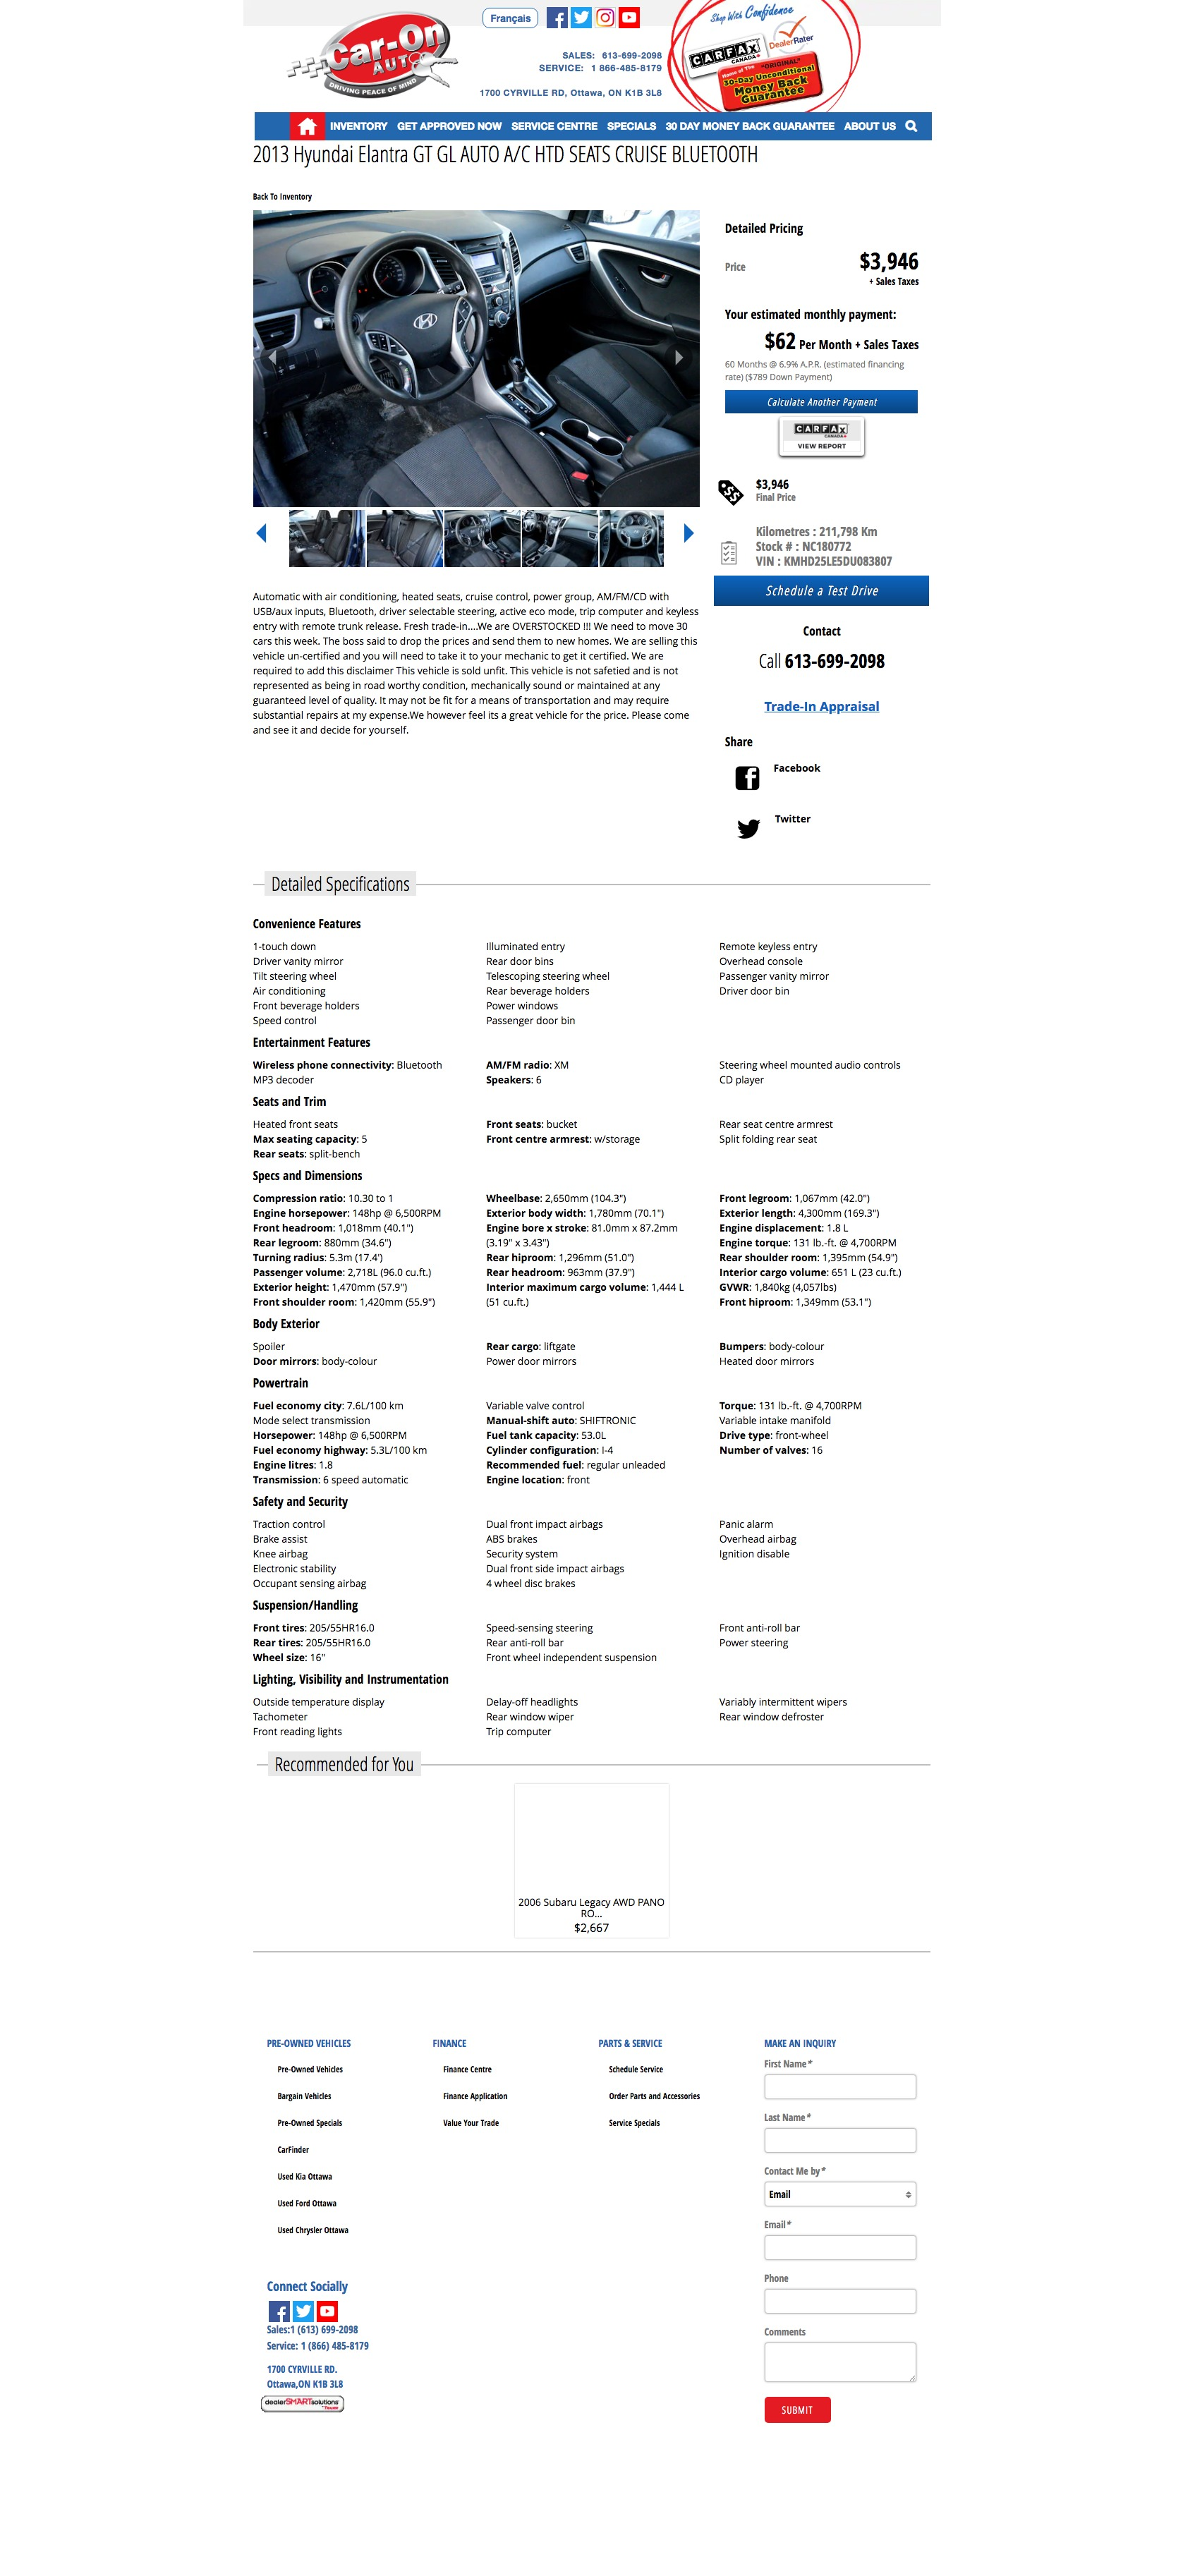car: (684, 524, 695, 545)
